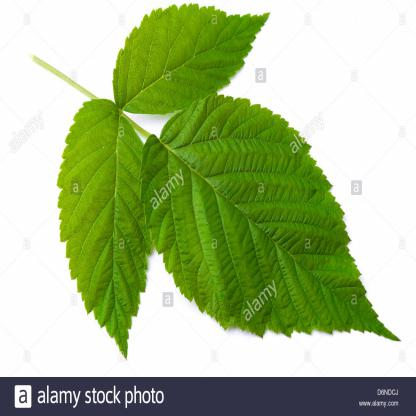raspberry leaf: (135, 91, 403, 346), (55, 93, 155, 361), (110, 1, 272, 113)
